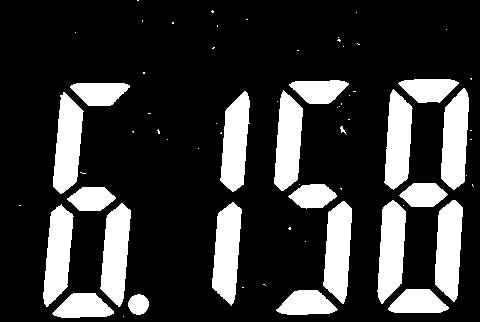1: (205, 89, 252, 301)
5: (268, 76, 358, 322)
6: (42, 80, 134, 319)
8: (372, 71, 473, 317)
dot: (125, 290, 153, 317)
